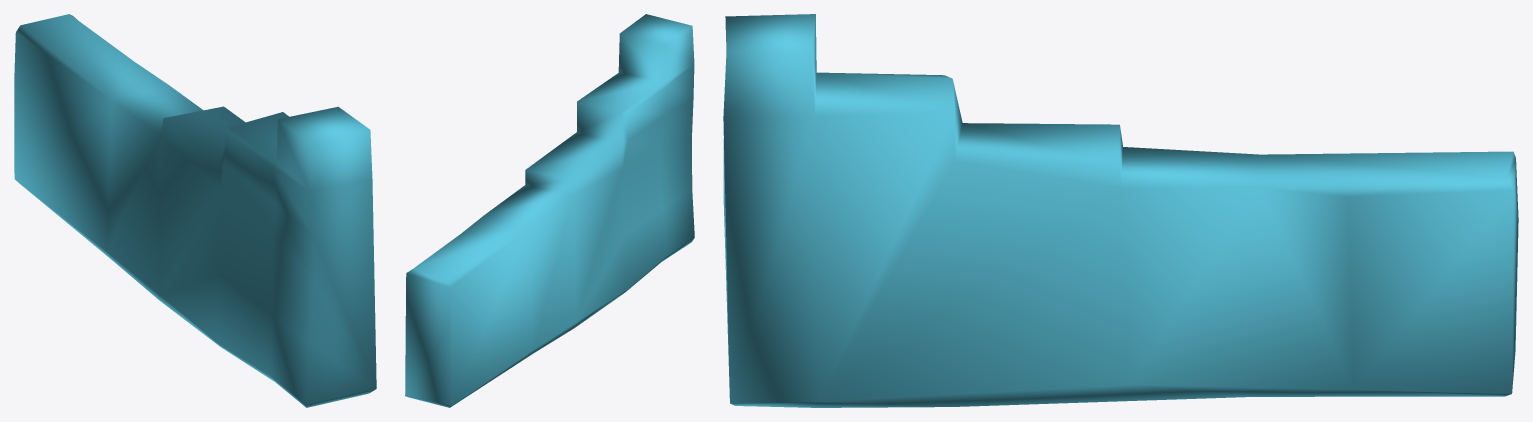
Rendered from wall_01.FBX.
3 renders of one model, left to right at view 1: azimuth 30°, elevation 25°; view 2: azimuth 150°, elevation 25°; view 3: azimuth 270°, elevation 25°, orthographic. The views are drawn at different scales.
Parts seen in each view (by area): view 1: wall_01; view 2: wall_01; view 3: wall_01.
Boxes of the visible parts, x1,y1,x2,y2 form: wall_01: [14, 14, 376, 407]; wall_01: [405, 14, 694, 407]; wall_01: [723, 14, 1518, 407].
Size of the model in its own units: 17.05 by 56.97 by 116.
